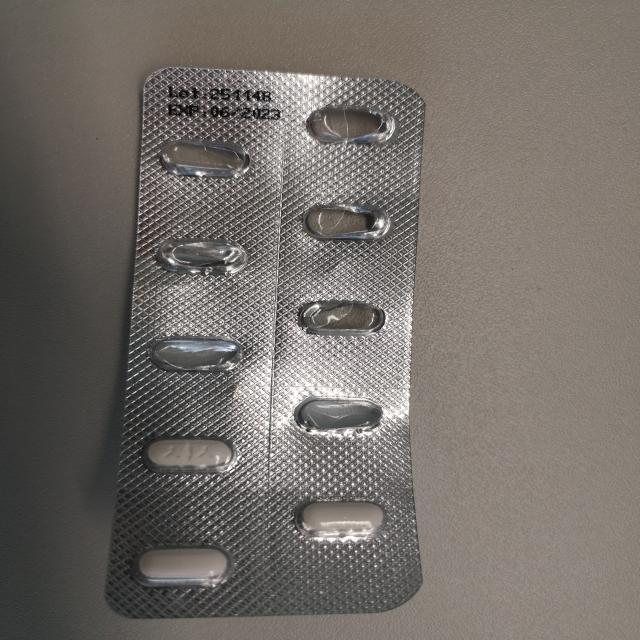Empty: (298, 100, 401, 149), (154, 133, 258, 181), (144, 331, 249, 376), (150, 236, 257, 280), (297, 199, 395, 245), (288, 393, 390, 437), (290, 296, 389, 339)
Pill: (127, 542, 239, 588), (138, 432, 239, 478), (292, 495, 389, 542)
